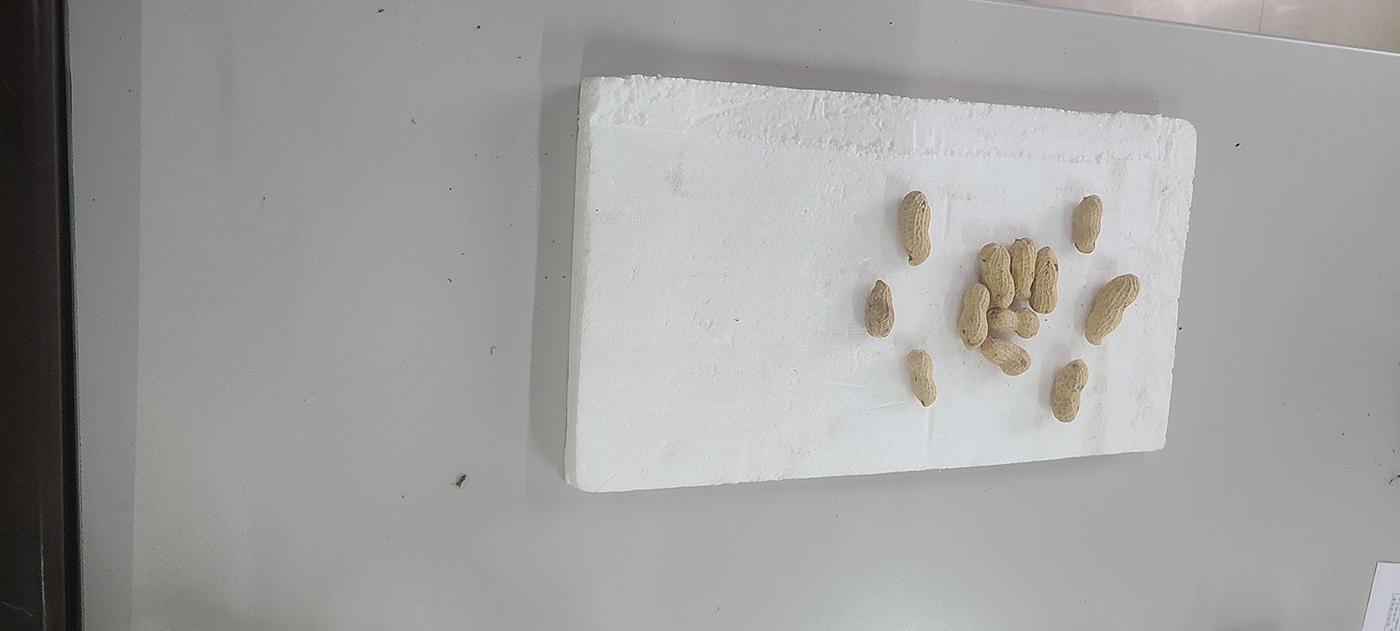h: (1085, 273, 1140, 345), (900, 190, 932, 267), (979, 243, 1015, 309), (1052, 360, 1088, 422), (959, 283, 990, 349), (983, 336, 1033, 376), (1030, 246, 1059, 314), (1072, 195, 1103, 254), (987, 307, 1039, 339), (908, 350, 937, 407), (867, 279, 895, 338), (1010, 238, 1037, 299)
